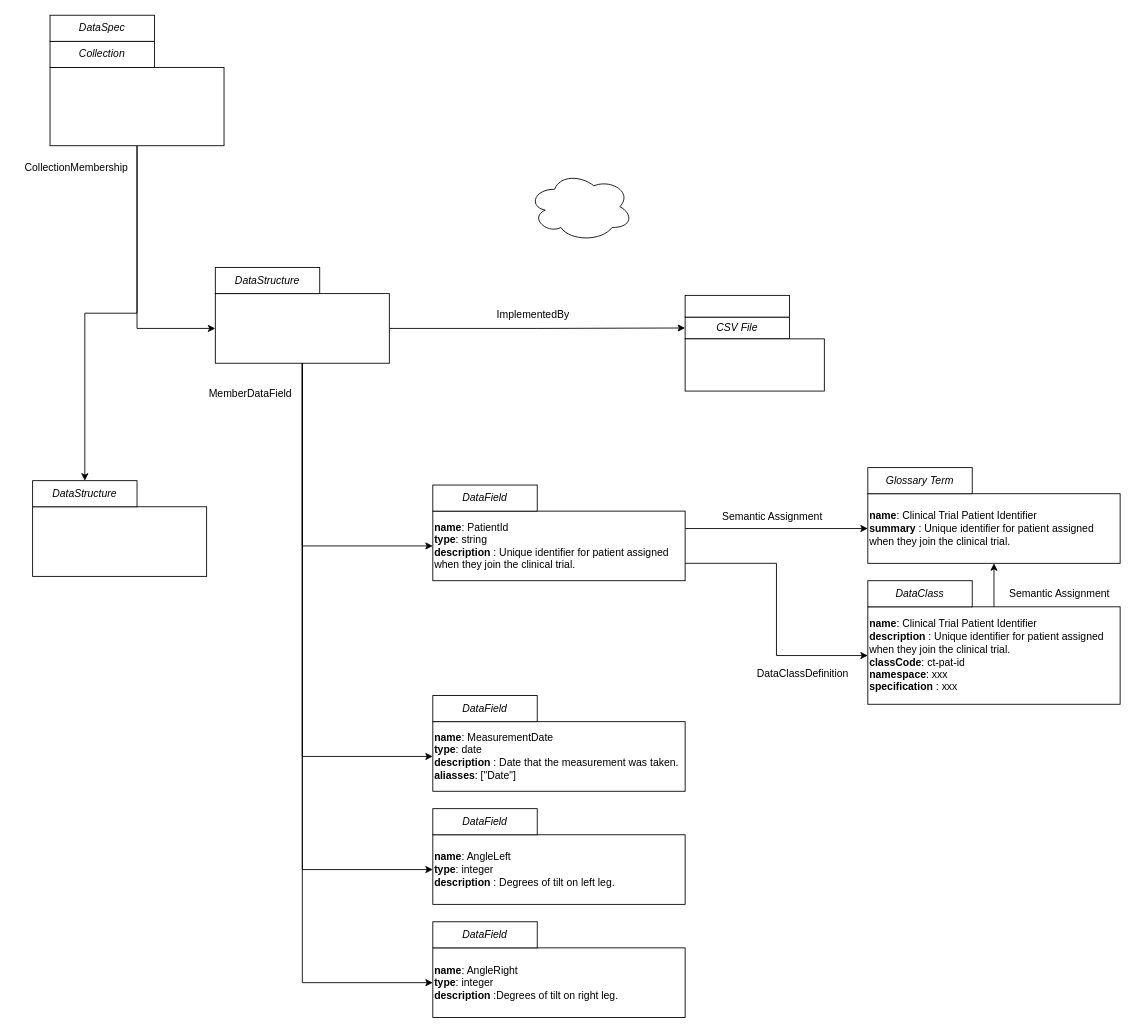
The diagram is 1135 pixels wide and 1033 high, and some of its shapes have lost their labels. The centre of each missing label's shape, as x and y in pixels:
"Clinical Trial Patient Data Structure" belongs at (x=119, y=541).
"Teddy Bear Drop Foot Data Specification" belongs at (x=136, y=106).
"Template" belongs at (x=737, y=305).
"Template is implemented" belongs at (x=580, y=206).
"Weekly Measurements Data Structure" belongs at (x=301, y=328).
